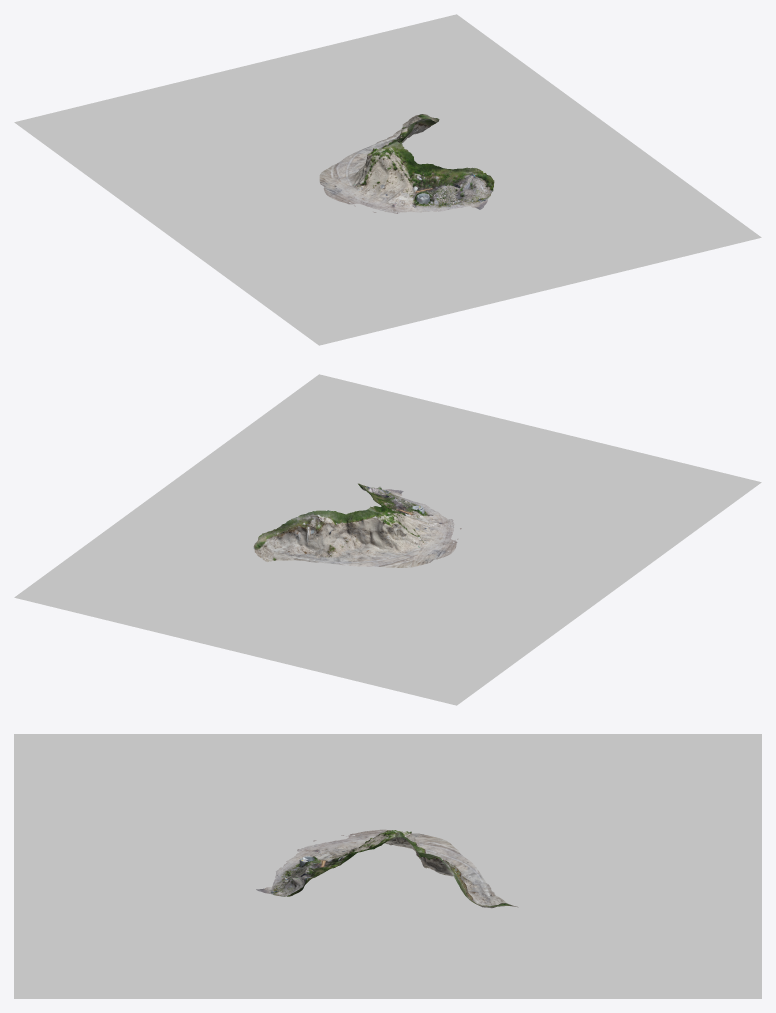
File: mountains.FBX
The picture shows the model from 3 angles, top to bottom: view 1: azimuth 30°, elevation 25°; view 2: azimuth 150°, elevation 25°; view 3: azimuth 270°, elevation 25°; orthographic projection. The views are drawn at different scales.
Visible parts, largest first — view 1: Plane001, default; view 2: Plane001, default; view 3: Plane001, default.
Part boxes in pixels (x1,y1,x2,y2): Plane001: (14,14,761,345); default: (319,114,494,213); Plane001: (14,374,761,705); default: (253,483,461,567); Plane001: (14,734,761,998); default: (256,829,518,908).
Size of the model in its own units: 3579 by 264 by 4272.
1 material, 1 textured.
